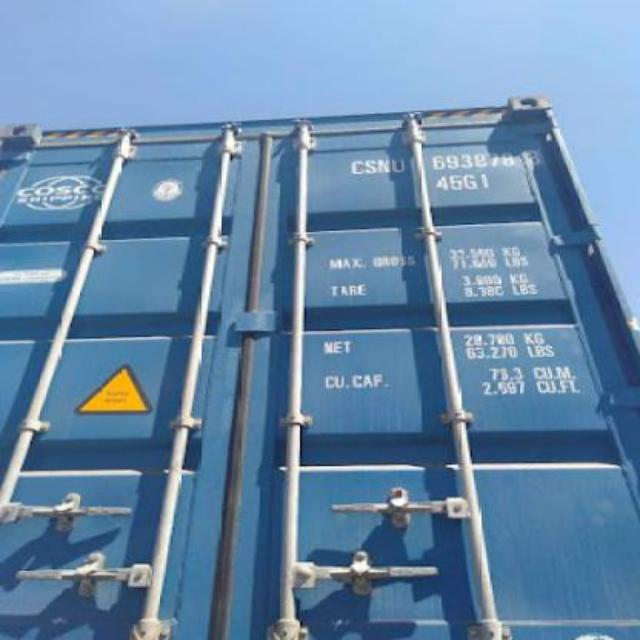3: (462, 154, 474, 168)
6: (430, 154, 446, 170)
7: (486, 152, 502, 168)
8: (474, 154, 490, 168), (502, 152, 516, 168), (528, 152, 544, 166)
9: (446, 154, 458, 168)
C: (352, 160, 364, 172)
N: (378, 157, 392, 173)
S: (364, 157, 378, 173)
U: (390, 157, 408, 173)
